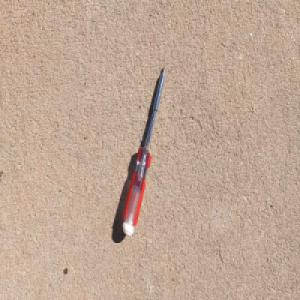Screwdriver: (121, 63, 167, 237)
